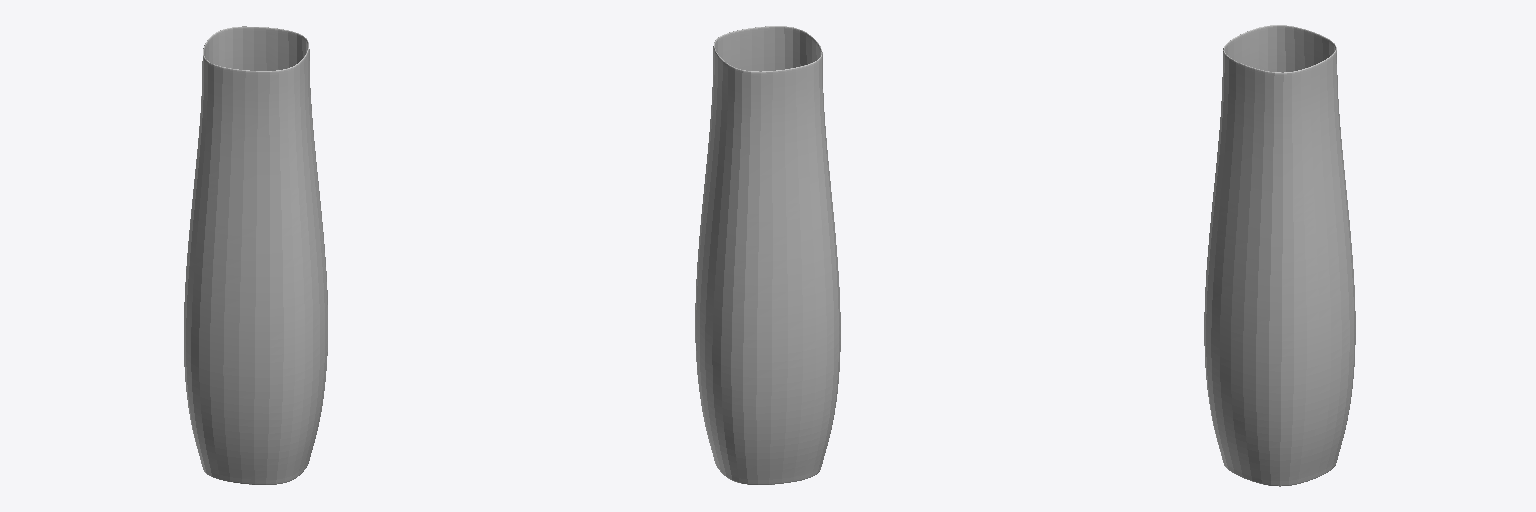
File: build-vase-1.obj
3 views of the same model, side by side, from view 1: azimuth 30°, elevation 25°; view 2: azimuth 150°, elevation 25°; view 3: azimuth 270°, elevation 25° (orthographic).
Visible parts, largest first — view 1: VaseGenerator; view 2: VaseGenerator; view 3: VaseGenerator.
Boxes of the visible parts, x1=… form: VaseGenerator: x1=184, y1=26, x2=327, y2=484; VaseGenerator: x1=695, y1=26, x2=840, y2=484; VaseGenerator: x1=1204, y1=25, x2=1355, y2=486.
Bounding box in the file's own units: 5.04 × 15.21 × 5.04.